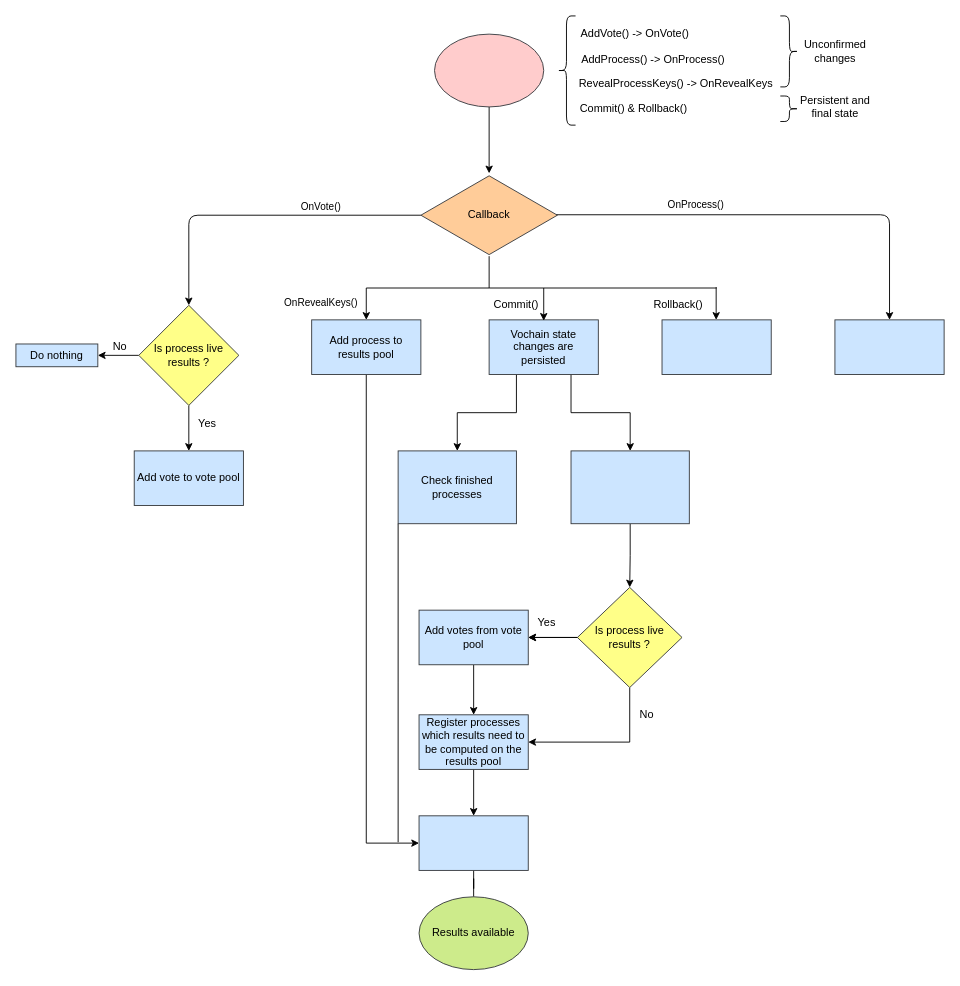
This 960x986 diagram has some shape labels left out. Each missing label, with the box of its shape:
Add process to process pool: (834, 319, 944, 374)
Check process pool processes: (570, 450, 689, 524)
Compute results: (418, 815, 528, 870)
Remove non committed changes: (661, 319, 771, 374)
Vochain signal: (434, 33, 544, 107)
